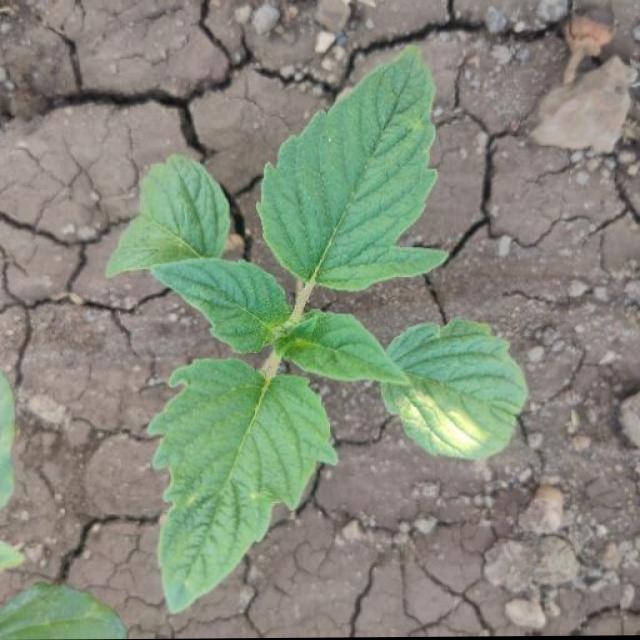crop: (105, 63, 536, 639)
